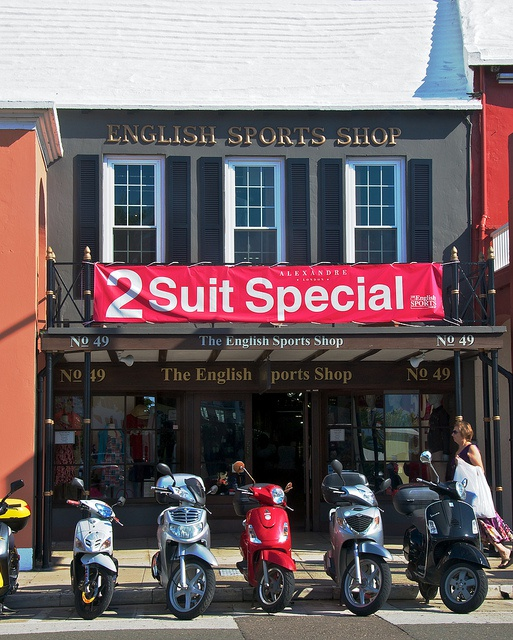non-vehicle: (393, 450, 490, 614), (321, 459, 392, 615), (150, 461, 218, 620), (230, 460, 296, 612), (66, 476, 125, 619), (0, 477, 30, 614)
